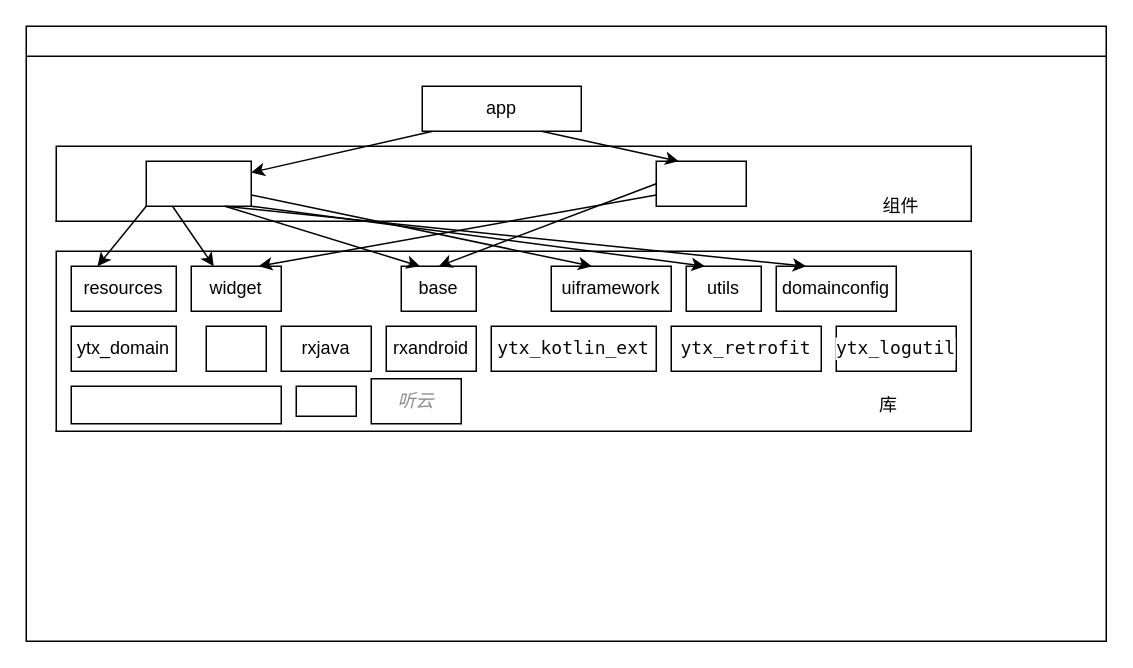
This 1133x668 diagram has some shape labels left out. Here are the shapes that lost their labels. From the top down, the box of each, then its label:
(145, 160, 251, 206): live
(655, 160, 746, 206): user
(205, 325, 266, 371): glide
(70, 385, 281, 424): ytx_tcsuperplayer
(295, 385, 356, 416): mmkv
